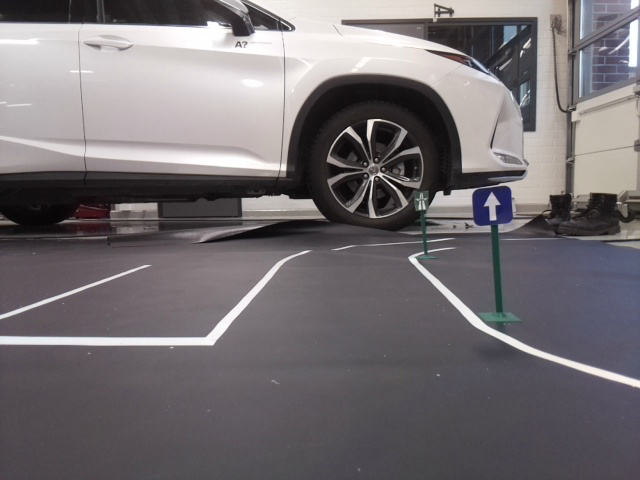HighwayEntrance: (413, 190, 429, 209)
OneWay: (473, 186, 512, 225)
